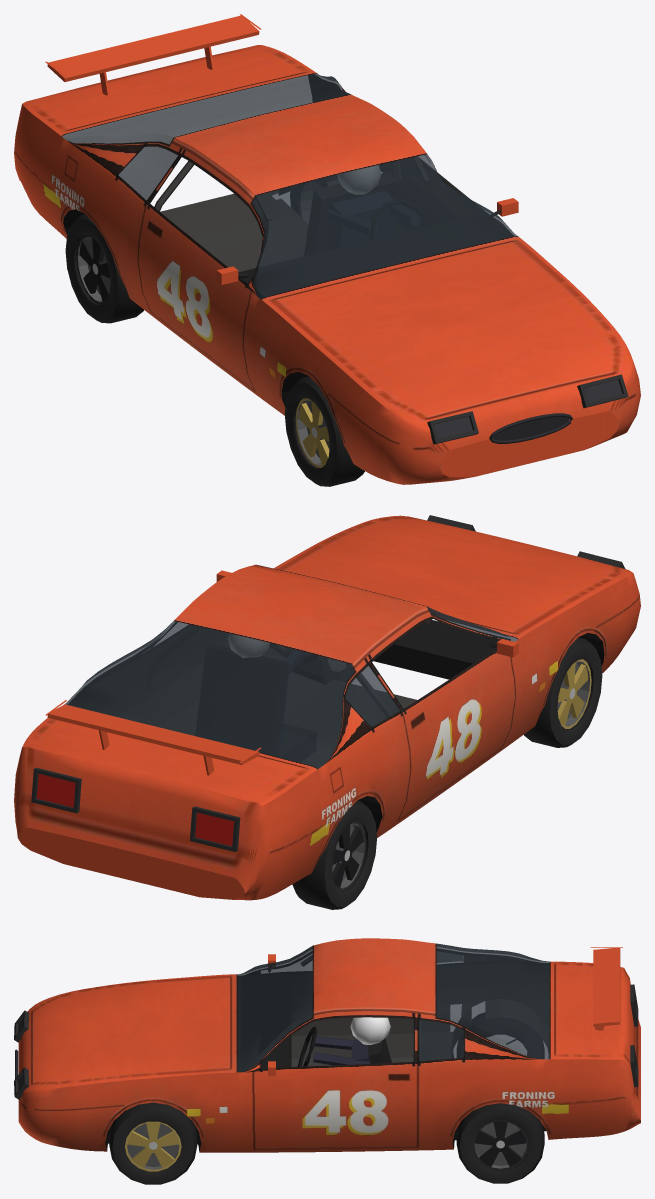
3 renders of one model, top to bottom at view 1: azimuth 30°, elevation 25°; view 2: azimuth 150°, elevation 25°; view 3: azimuth 270°, elevation 25°, orthographic. The views are drawn at different scales.
Visible parts, largest first — view 1: body, wheel_fr, wheel_rr, wheel_rl; view 2: body, wheel_rr, wheel_fr, wheel_fl; view 3: body, wheel_fl, wheel_rl, wheel_rr.
Boxes of the visible parts, x1,y1,x2,y2 form: body: (14,14,640,484); wheel_fr: (284,376,364,486); wheel_rr: (65,214,143,323); wheel_rl: (290,175,337,223); body: (14,515,640,900); wheel_rr: (292,800,377,909); wheel_fr: (524,637,602,747); wheel_fl: (292,657,352,684); body: (14,938,640,1152); wheel_fl: (109,1102,197,1184); wheel_rl: (456,1103,544,1183); wheel_rr: (457,1012,544,1058).
Bounding box in the file's own units: 1.98 × 1.35 × 4.65.
2 materials, 1 textured.
